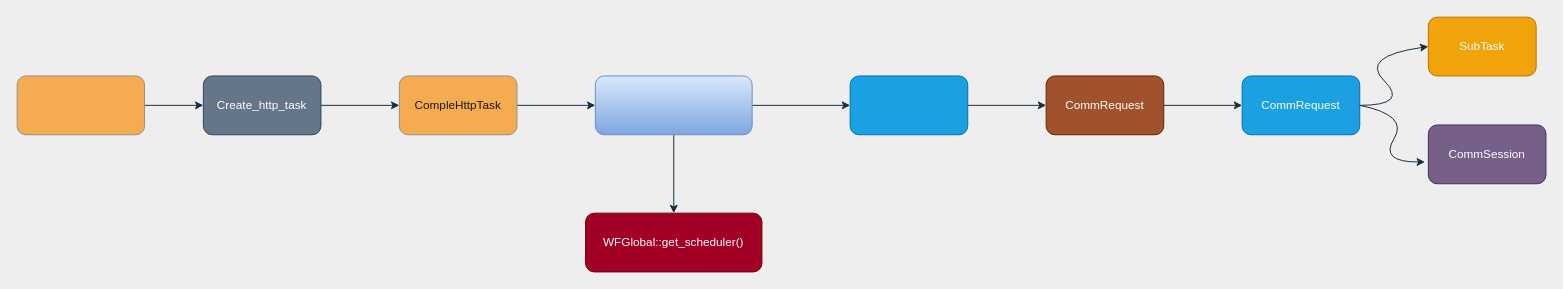
Some shapes in this 1563 by 289 pixel diagram are drawn without their labels. The shapes that lost their labels are listed below. From the top down, each one's centre as x and y in pixels, then its label:
point 80,105: WFTaskFactory
point 673,105: WFComplexClientTask
point 908,105: WFClientTask
